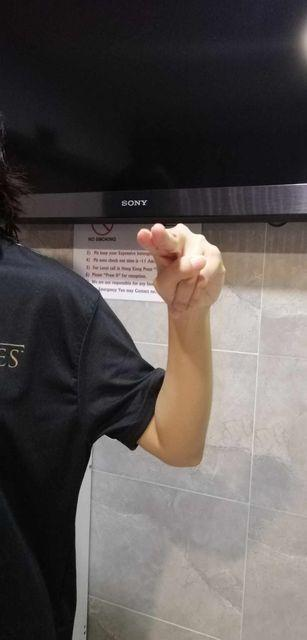n: (136, 222, 226, 314)
